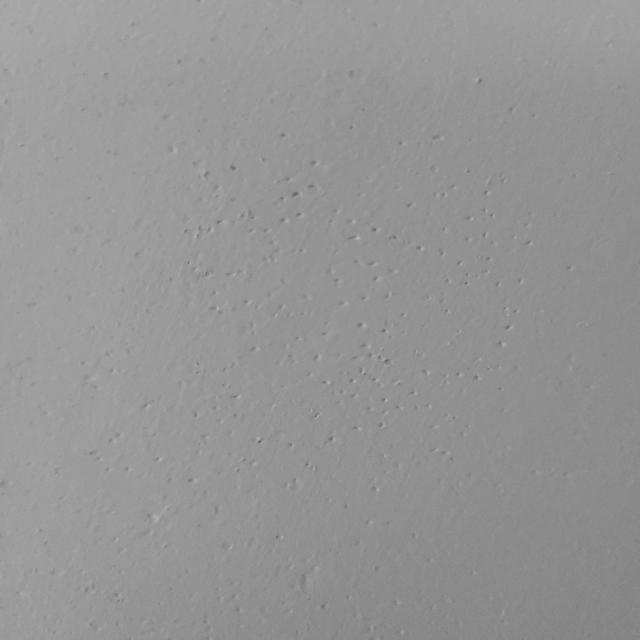rough and patchy surface: (41, 70, 562, 556), (40, 557, 472, 640)
